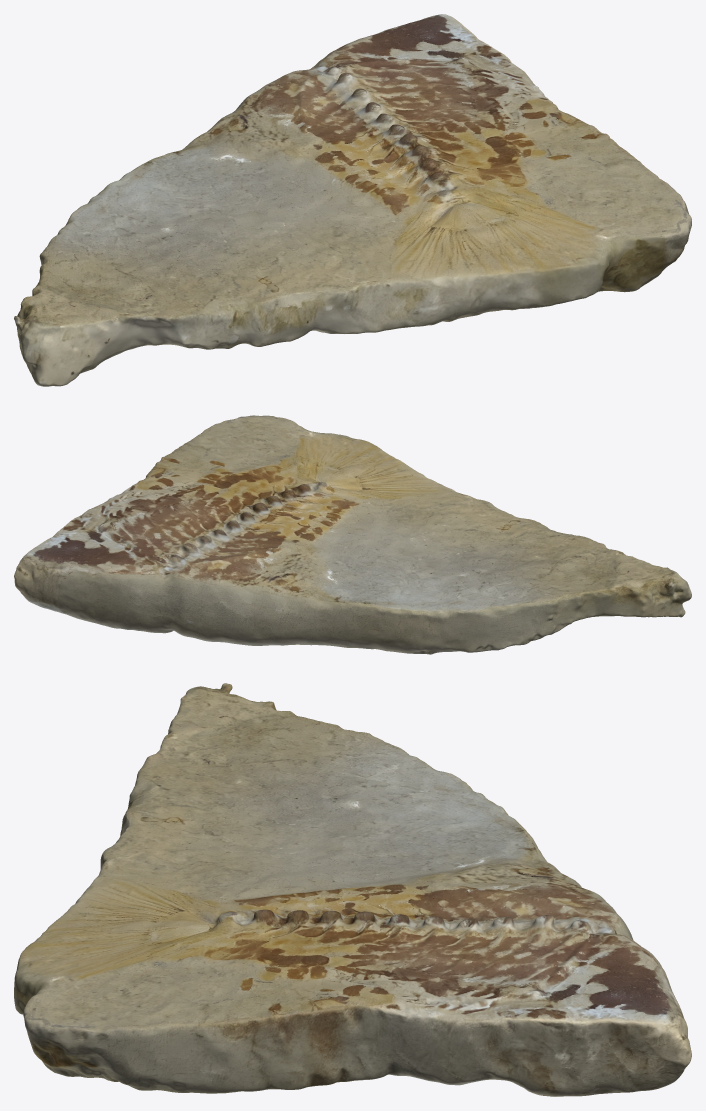
The model's file is fish5.glb.
3 renders of one model, top to bottom at view 1: azimuth 30°, elevation 25°; view 2: azimuth 150°, elevation 25°; view 3: azimuth 270°, elevation 25°, orthographic. The views are drawn at different scales.
Size of the model in its own units: 1.9 by 0.282 by 1.47.
Materials: 1 (1 with a texture image).
